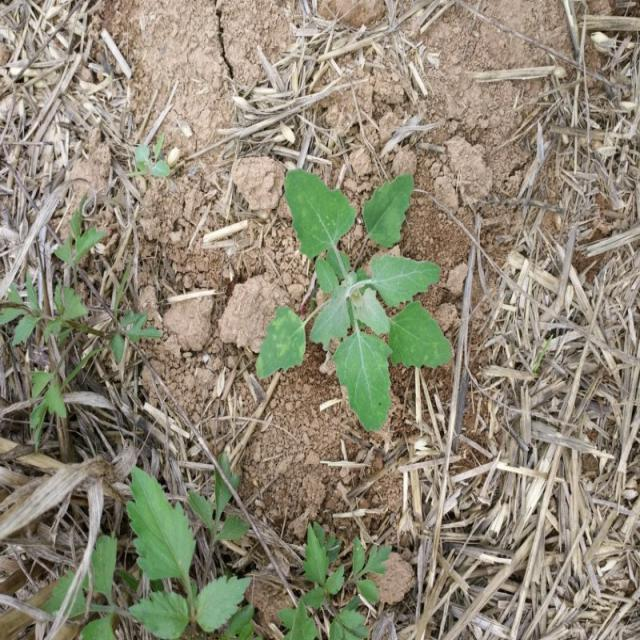ca: (264, 170, 454, 424)
